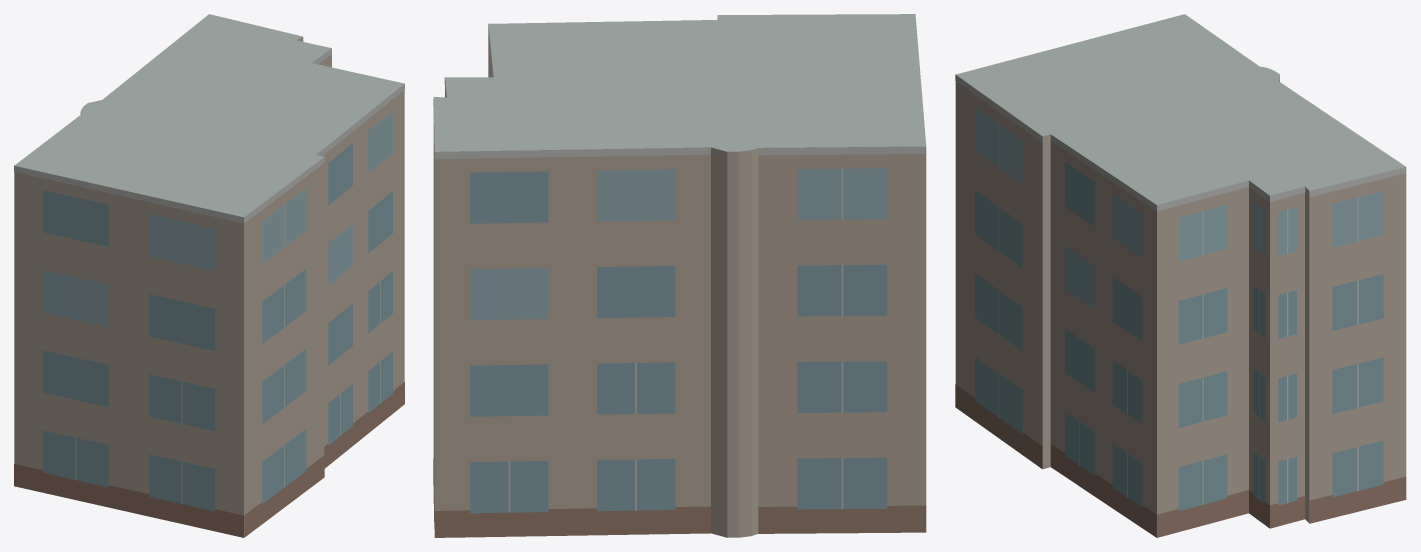
The model's file is survey-upis-32519111.glb.
3 renders of one model, left to right at view 1: azimuth 30°, elevation 25°; view 2: azimuth 150°, elevation 25°; view 3: azimuth 270°, elevation 25°, orthographic. The views are drawn at different scales.
Parts seen in each view (by area): view 1: survey-upis-32519111.tmp; view 2: survey-upis-32519111.tmp; view 3: survey-upis-32519111.tmp.
Part boxes in pixels (left/top/right/bottom): survey-upis-32519111.tmp: left=14, top=14, right=404, bottom=537; survey-upis-32519111.tmp: left=433, top=14, right=926, bottom=537; survey-upis-32519111.tmp: left=955, top=14, right=1406, bottom=537.
Bounding box in the file's own units: 15.77 × 12.8 × 15.72.
